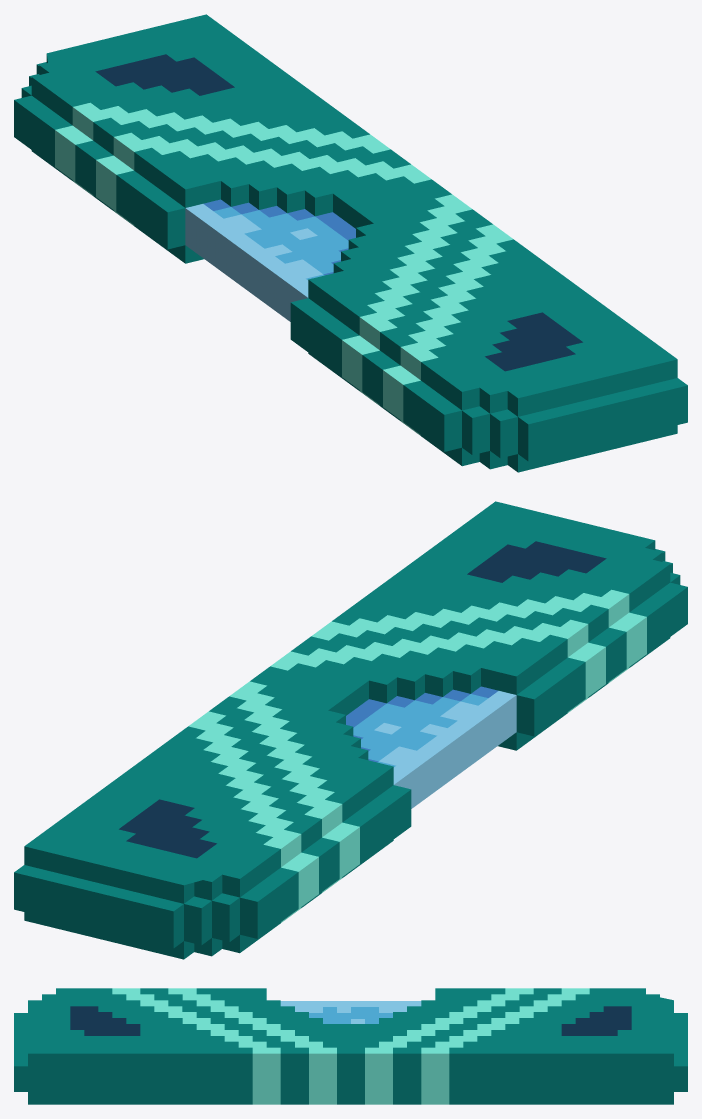
Rendered from tableta.fbx.
The picture shows the model from 3 angles, top to bottom: view 1: azimuth 30°, elevation 25°; view 2: azimuth 150°, elevation 25°; view 3: azimuth 270°, elevation 25°; orthographic projection. The views are drawn at different scales.
Visible parts, largest first — view 1: tableta; view 2: tableta; view 3: tableta.
Boxes of the visible parts, box(x1,y1,x2,y2) form: tableta: box(14, 14, 687, 472); tableta: box(14, 501, 687, 959); tableta: box(14, 988, 687, 1104).
Size of the model in its own units: 1200 by 400 by 4800.
